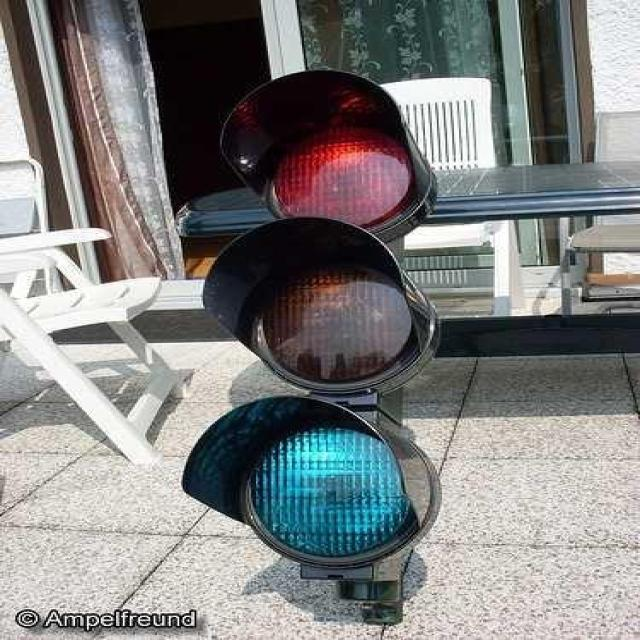Traffic Light -Off-: (181, 61, 452, 589)
